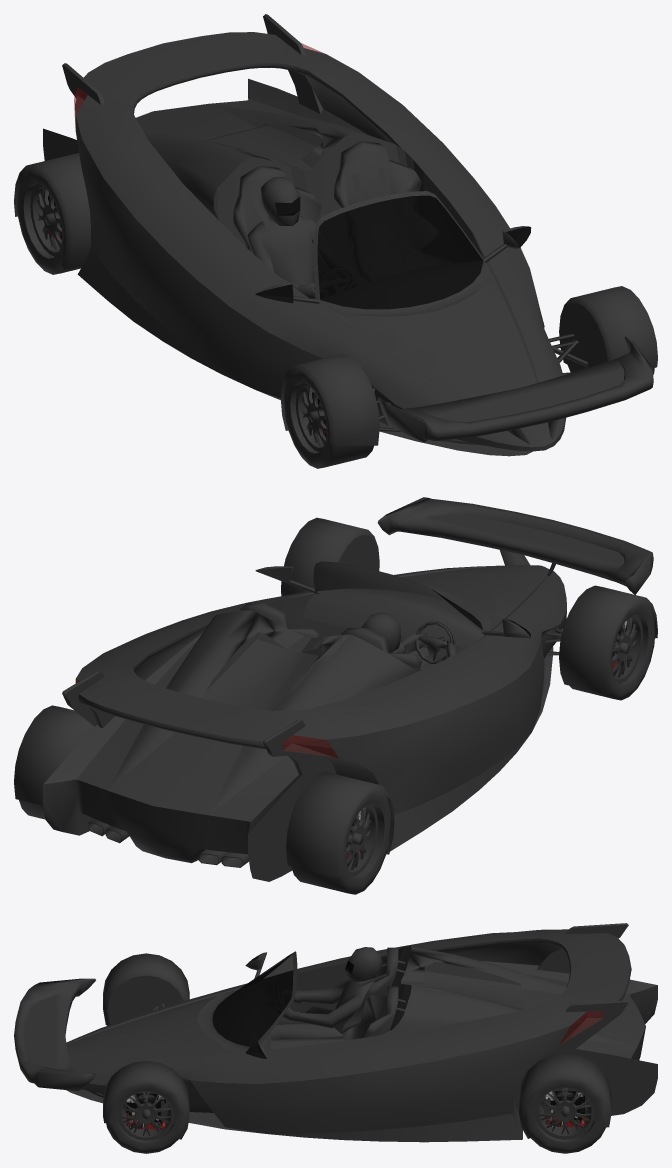
The model's file is INDIGO.glb.
3 renders of one model, top to bottom at view 1: azimuth 30°, elevation 25°; view 2: azimuth 150°, elevation 25°; view 3: azimuth 270°, elevation 25°, orthographic. The views are drawn at different scales.
Visible parts, largest first — view 1: tree_node_140f7c, HUB_FRONT_RIGHT_0x14143c, HUB_FRONT_LEFT_0x14115c, WHEEL_STATIC_0x14124c, WHEEL_STATIC_0x141334, HUB_BACK_LEFT_0x141274, HELMET_0x141554; view 2: tree_node_140f7c, HUB_BACK_LEFT_0x141274, HUB_FRONT_LEFT_0x14115c, WHEEL_STATIC_0x141334, HUB_BACK_RIGHT_0x14135c, HUB_FRONT_RIGHT_0x14143c, WHEEL_STATIC_0x14124c, HELMET_0x141554, BRAKE_LIGHTS_OFF_0x1415a4; view 3: tree_node_140f7c, HUB_FRONT_LEFT_0x14115c, tree_node_141414, WHEEL_STATIC_0x14152c, HUB_BACK_RIGHT_0x14135c, HUB_FRONT_RIGHT_0x14143c, HELMET_0x141554, WHEEL_FRONT_RIGHT_0x1414cc, WHEEL_BACK_RIGHT_0x1413bc, BRAKE_LIGHTS_OFF_0x1415a4.
Boxes of the visible parts, x1,y1,x2,y2 form: tree_node_140f7c: (43,14,653,456); HUB_FRONT_RIGHT_0x14143c: (559,286,657,370); HUB_FRONT_LEFT_0x14115c: (281,354,379,445); WHEEL_STATIC_0x14124c: (283,371,373,468); WHEEL_STATIC_0x141334: (16,171,82,274); HUB_BACK_LEFT_0x141274: (14,153,90,269); HELMET_0x141554: (261,177,300,225); tree_node_140f7c: (43,497,653,881); HUB_BACK_LEFT_0x141274: (286,772,394,877); HUB_FRONT_LEFT_0x14115c: (559,585,657,694); WHEEL_STATIC_0x141334: (291,790,391,894); HUB_BACK_RIGHT_0x14135c: (14,705,94,805); HUB_FRONT_RIGHT_0x14143c: (281,517,379,596); WHEEL_STATIC_0x14124c: (569,602,655,700); HELMET_0x141554: (361,613,401,652); BRAKE_LIGHTS_OFF_0x1415a4: (75,679,338,758); tree_node_140f7c: (14,923,657,1142); HUB_FRONT_LEFT_0x14115c: (103,953,189,1025); tree_node_141414: (524,1078,606,1153); WHEEL_STATIC_0x14152c: (106,1082,184,1153); HUB_BACK_RIGHT_0x14135c: (519,1053,611,1138); HUB_FRONT_RIGHT_0x14143c: (103,1060,189,1139); HELMET_0x141554: (345,947,382,981); WHEEL_FRONT_RIGHT_0x1414cc: (126,1093,165,1129); WHEEL_BACK_RIGHT_0x1413bc: (545,1091,584,1126); BRAKE_LIGHTS_OFF_0x1415a4: (559,1011,604,1045).
Size of the model in its own units: 2.07 by 0.9933 by 4.45.
5 materials, 1 textured.
